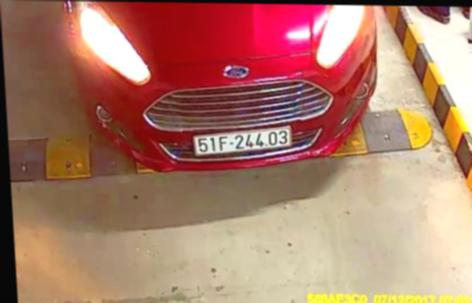License_Plate: (194, 127, 297, 158)
